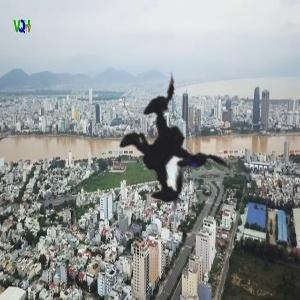drone: (40, 33, 276, 269)
